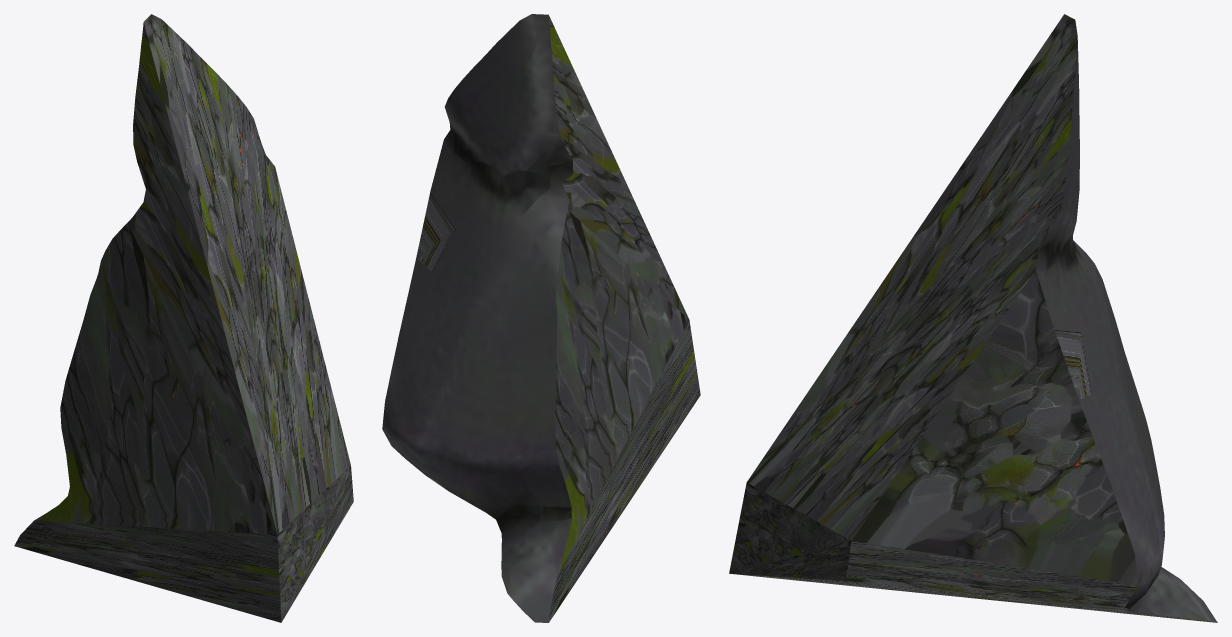
File: Frag_16.gltf
3 renders of one model, left to right at view 1: azimuth 30°, elevation 25°; view 2: azimuth 150°, elevation 25°; view 3: azimuth 270°, elevation 25°, orthographic. The views are drawn at different scales.
Parts seen in each view (by area): view 1: Frag_16; view 2: Frag_16; view 3: Frag_16.
Part boxes in pixels (x1,y1,x2,y2): Frag_16: (14,14,353,622); Frag_16: (382,14,700,622); Frag_16: (729,14,1217,622).
Bounding box in the file's own units: 0.1008 × 0.2664 × 0.1844.
1 material, 1 textured.
